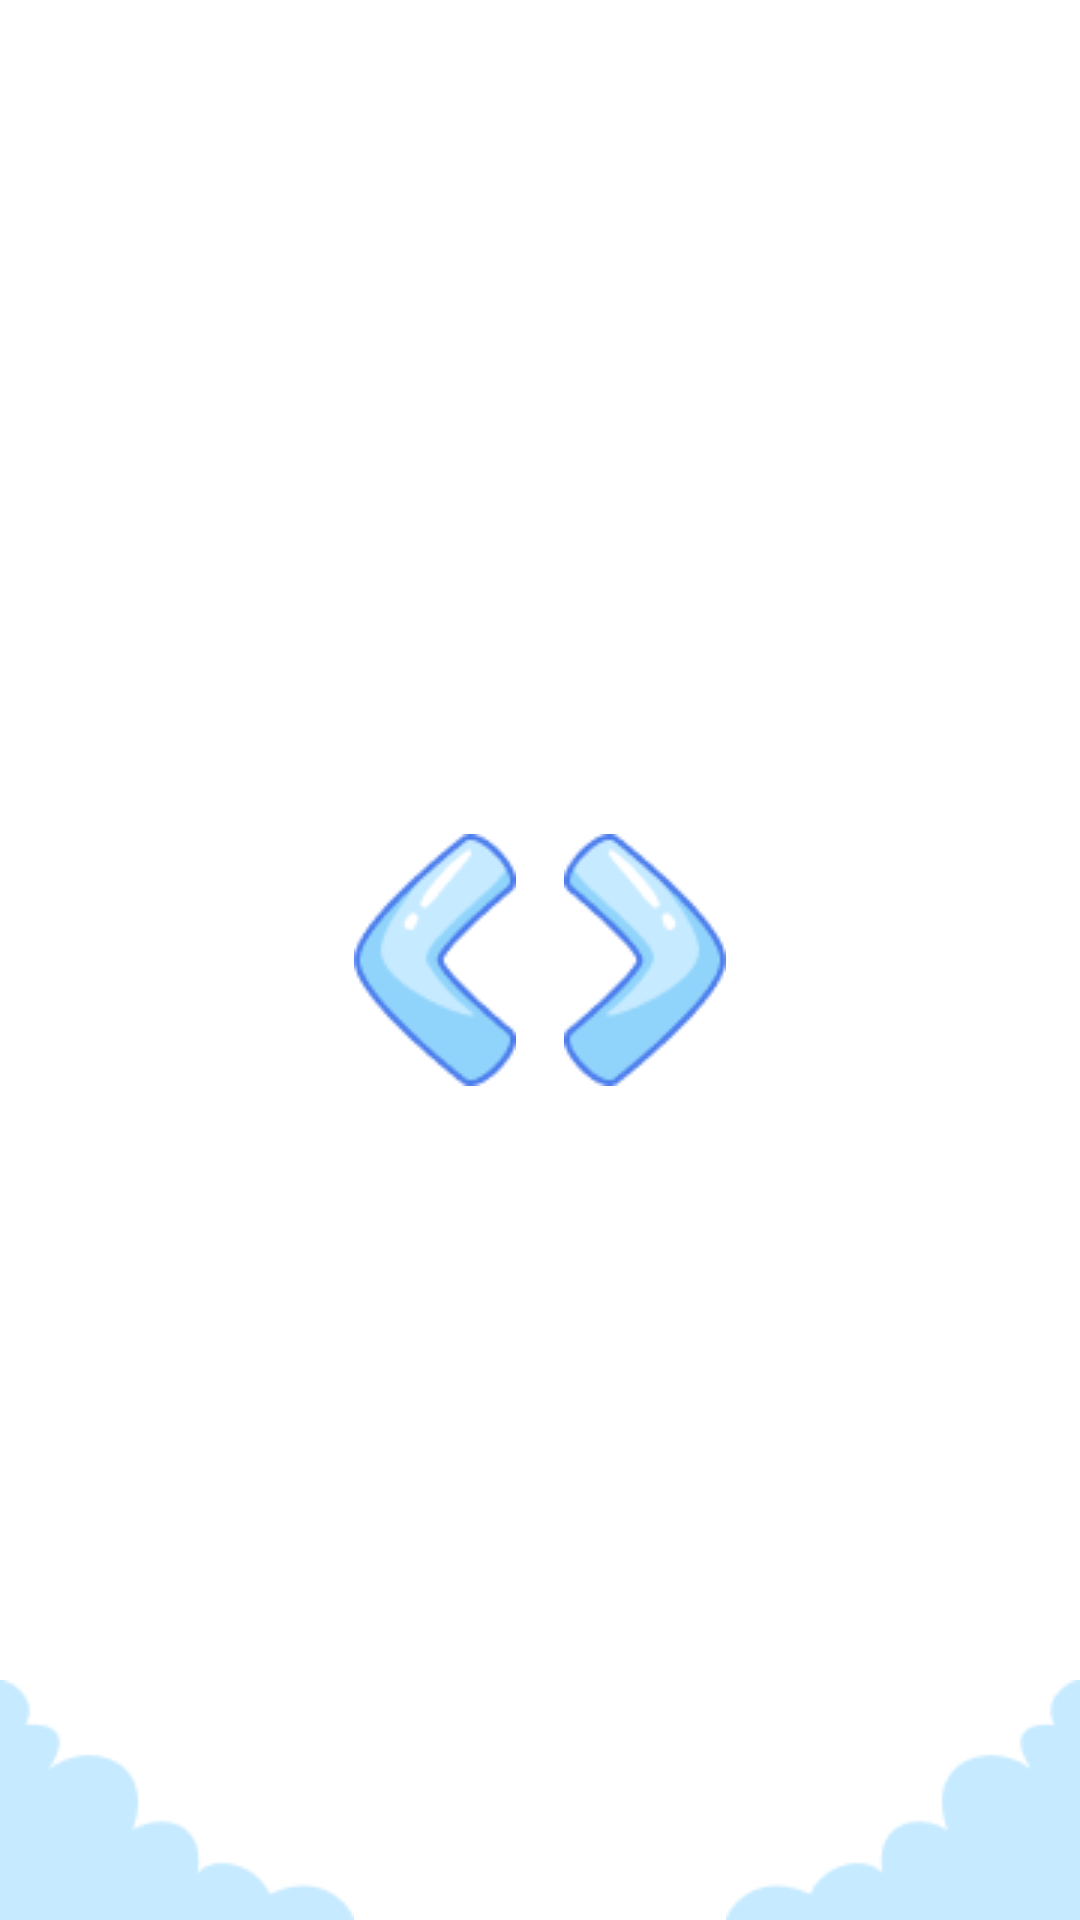

Named icons in this screenshot (1080 × 1920) and their centers, (x=x, y=y):
buttomcloudl: (x=177, y=1800)
buttomcloudr: (x=903, y=1800)
